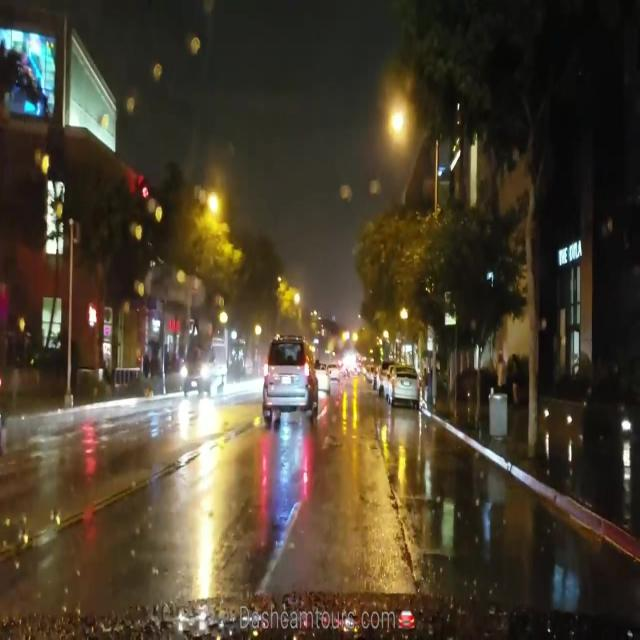Car: (260, 338, 315, 418), (176, 338, 225, 393), (389, 362, 420, 408)
